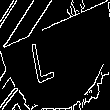L_N: (41, 26, 69, 84)
